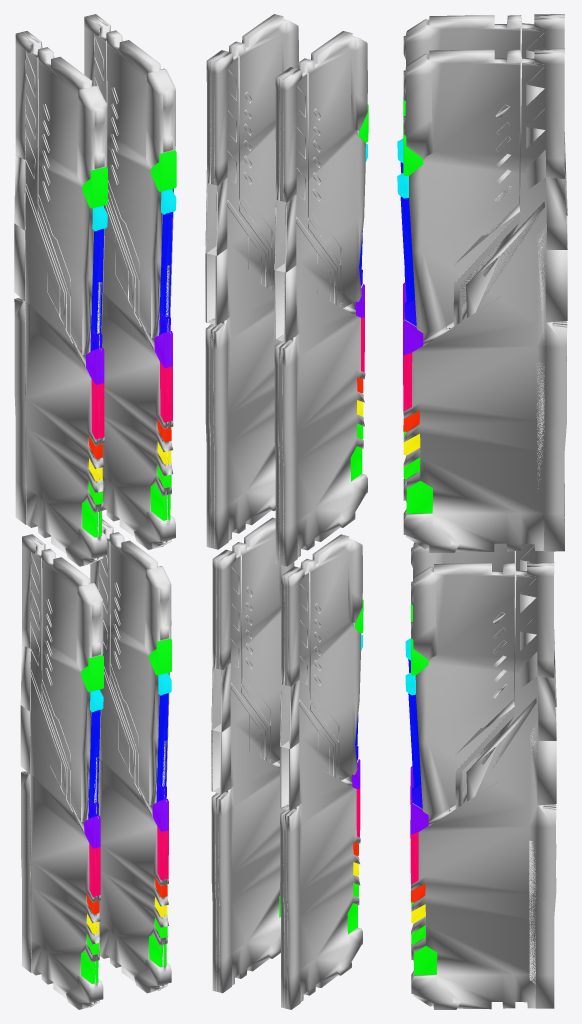
The model's file is ram.gltf.
3 renders of one model, left to right at view 1: azimuth 30°, elevation 25°; view 2: azimuth 150°, elevation 25°; view 3: azimuth 270°, elevation 25°, orthographic. The views are drawn at different scales.
Parts seen in each view (by area): view 1: Объект_Полигон.001, Объект_Полигон, Объект_Полигон.003, Объект_Полигон.002; view 2: Объект_Полигон.001, Объект_Полигон, Объект_Полигон.003, Объект_Полигон.002; view 3: Объект_Полигон, Объект_Полигон.002, Объект_Полигон.001, Объект_Полигон.003.
Boxes of the visible parts, x1,y1,x2,y2 form: Объект_Полигон.001: (14, 31, 107, 566); Объект_Полигон: (84, 14, 176, 549); Объект_Полигон.003: (20, 534, 103, 1009); Объект_Полигон.002: (90, 519, 171, 993); Объект_Полигон.001: (274, 31, 368, 566); Объект_Полигон: (205, 14, 298, 549); Объект_Полигон.003: (280, 534, 363, 1009); Объект_Полигон.002: (211, 517, 294, 993); Объект_Полигон: (397, 48, 567, 552); Объект_Полигон.002: (405, 562, 556, 1009); Объект_Полигон.001: (397, 14, 567, 516); Объект_Полигон.003: (405, 542, 556, 961).
Bounding box in the file's own units: 0.2324 × 2.41 × 0.3886.
